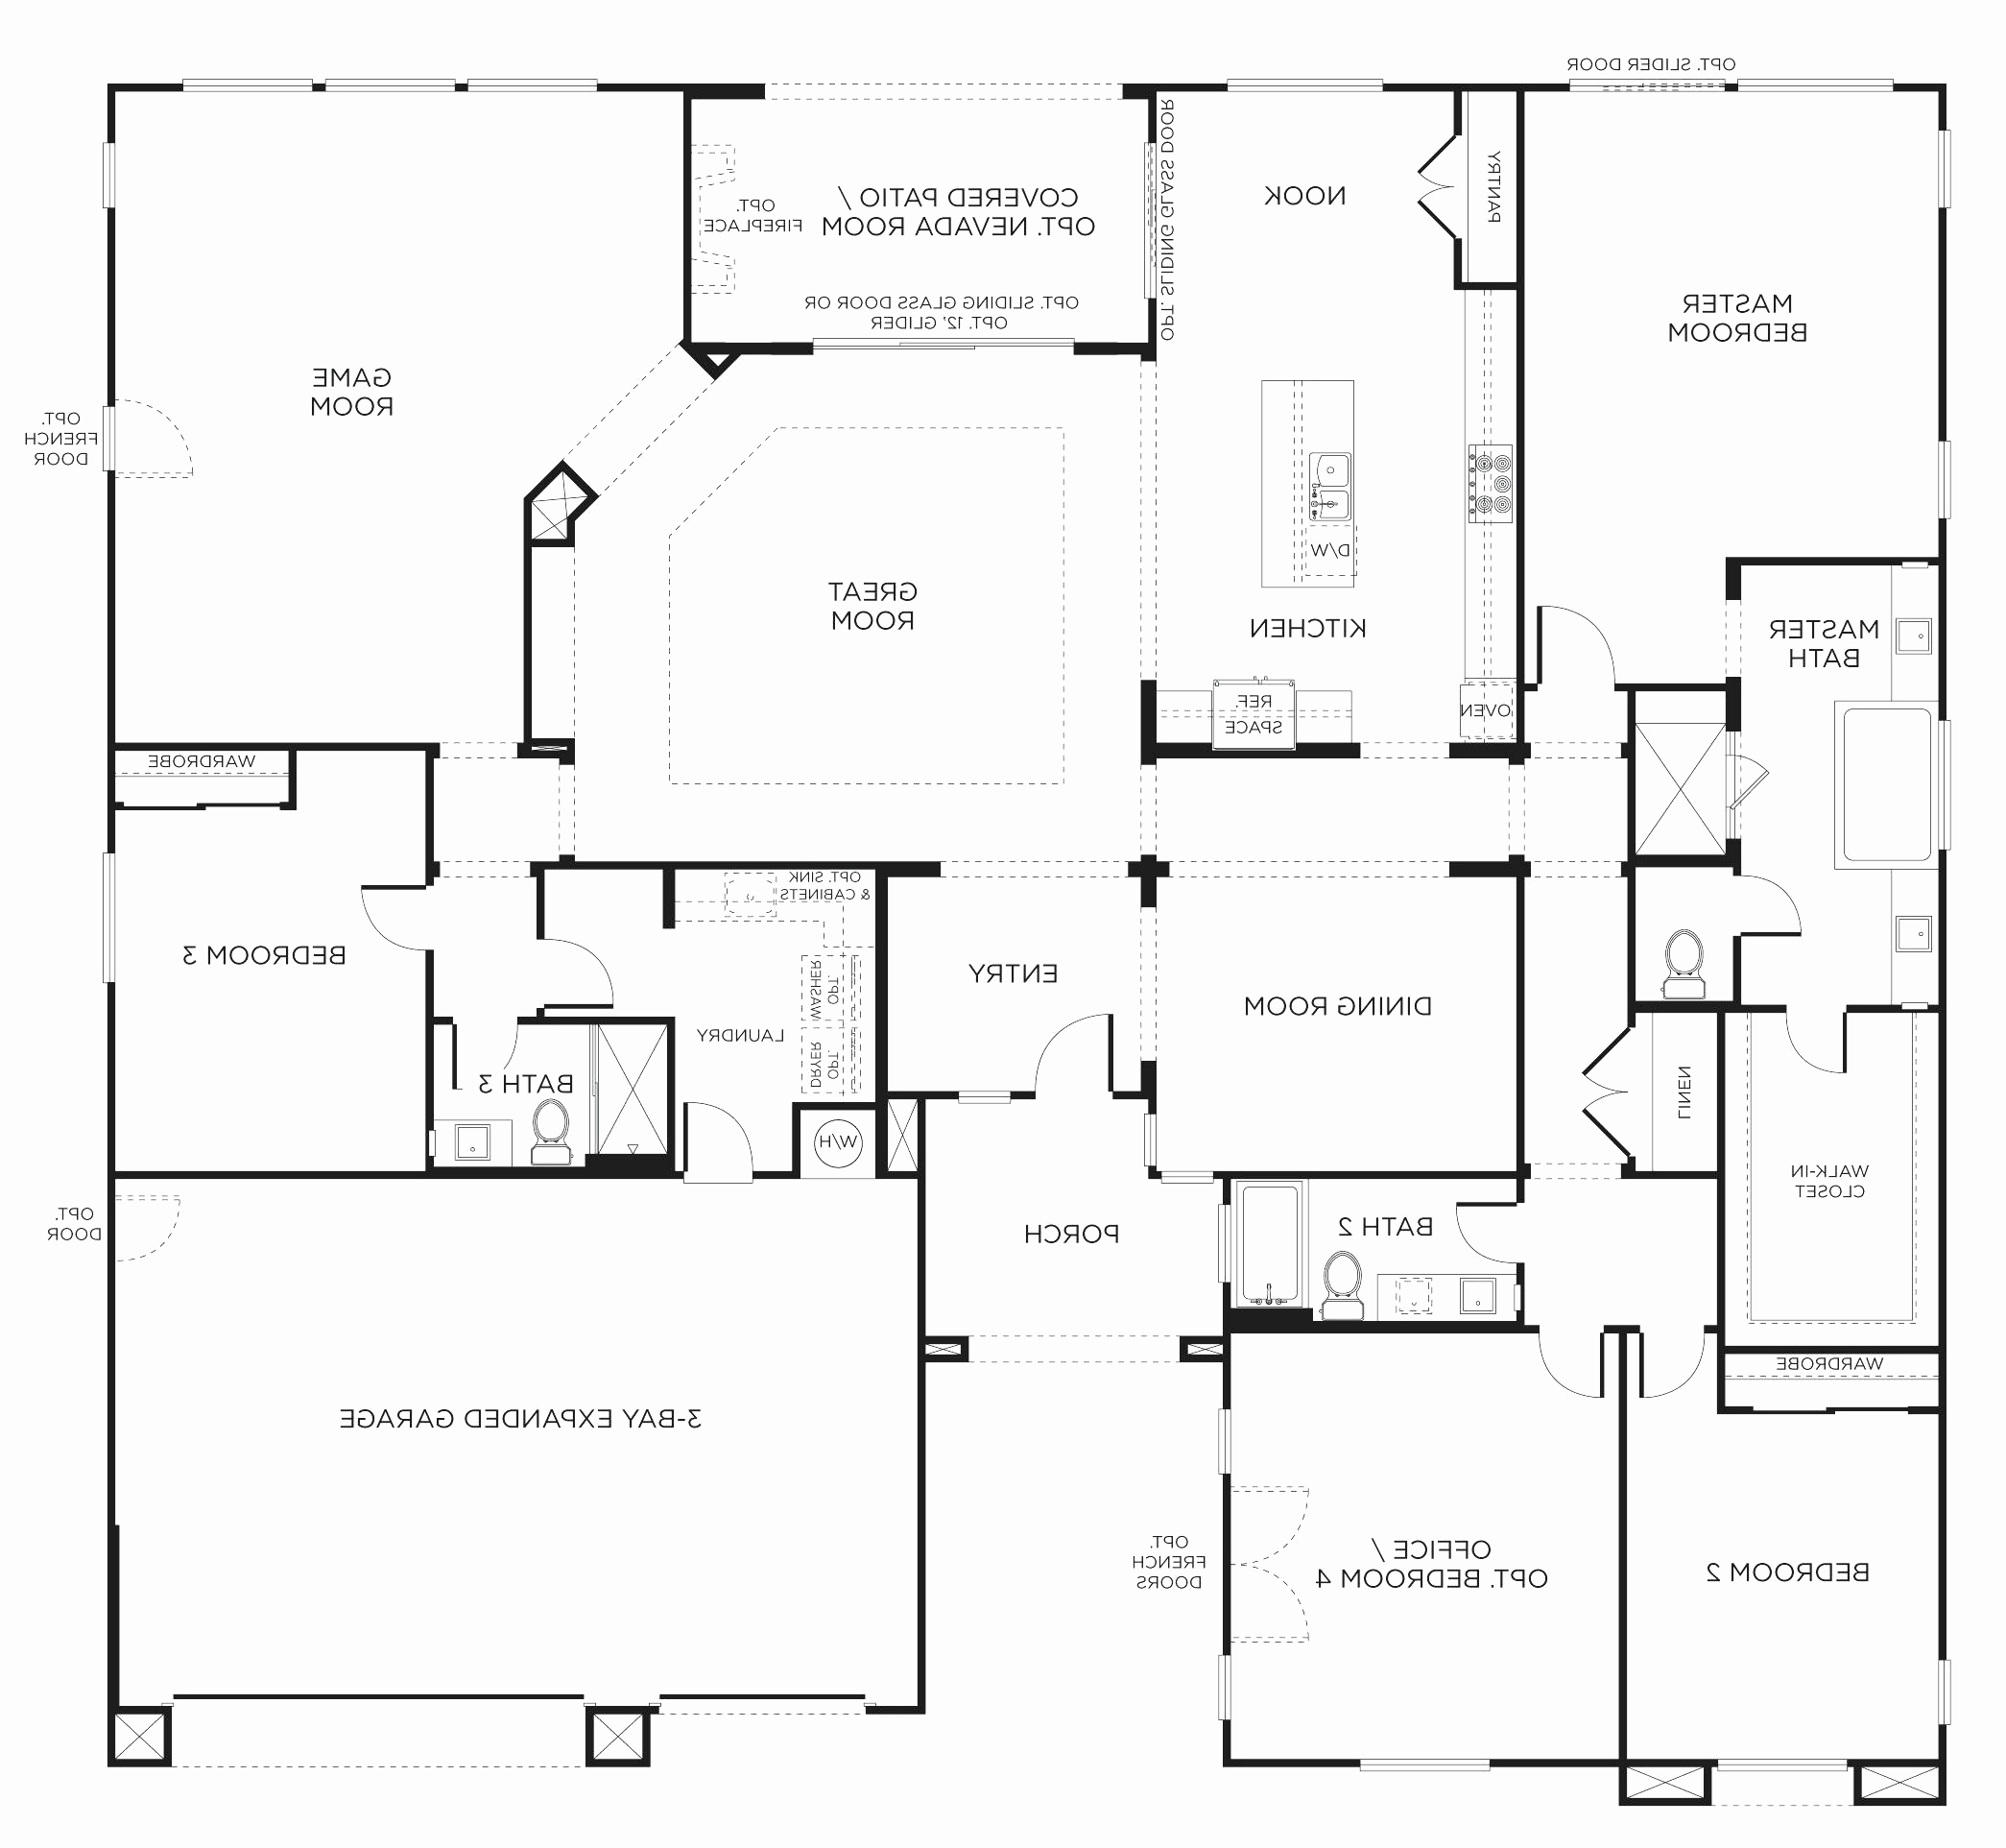door: (1235, 1462, 1316, 1673), (129, 390, 213, 512), (1029, 1005, 1134, 1082), (1529, 598, 1622, 668), (355, 862, 421, 956), (1525, 1343, 1620, 1404), (1747, 865, 1819, 944), (1408, 140, 1463, 236), (1630, 1353, 1705, 1421), (1786, 1026, 1864, 1080)
restroom: (1730, 563, 1945, 1014), (1225, 1177, 1524, 1332), (432, 1012, 666, 1177)
room: (103, 84, 674, 747), (521, 327, 1171, 764), (1153, 80, 1518, 755), (1515, 84, 1959, 566), (103, 745, 432, 1177), (688, 86, 1162, 355), (1145, 860, 1524, 1182)
window: (1740, 30, 1885, 140), (465, 35, 596, 138), (1574, 44, 1735, 126), (327, 54, 454, 129), (1230, 63, 1380, 117), (190, 54, 309, 117), (1718, 1741, 1849, 1783)
